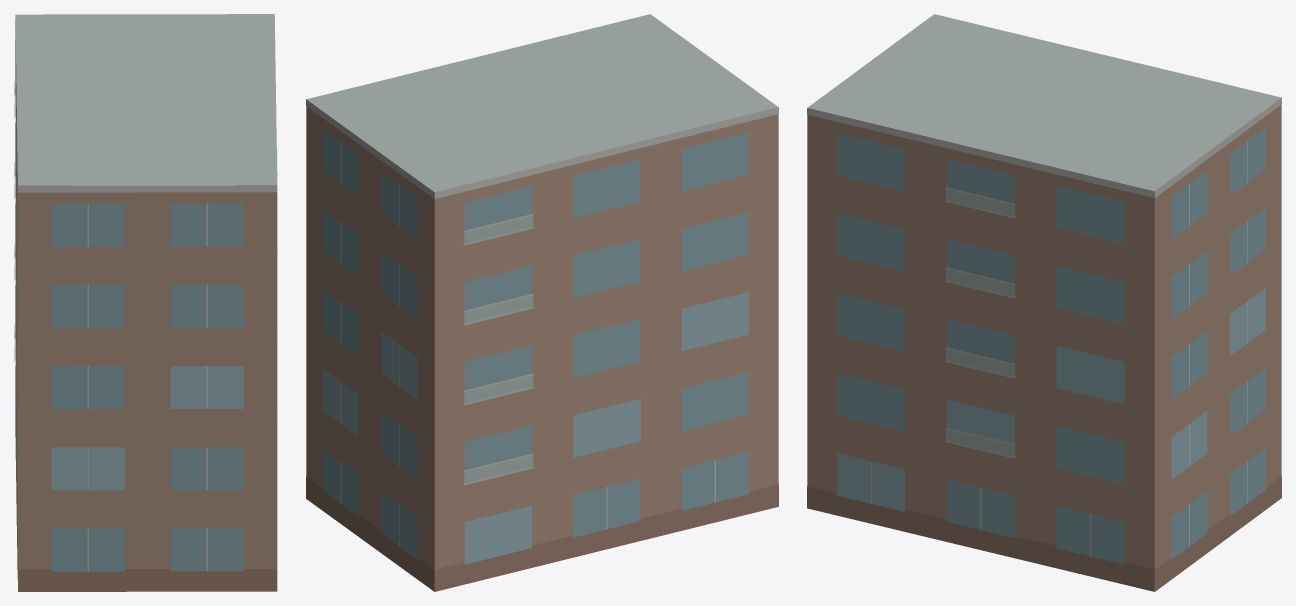
The model's file is survey-upis-32675606.glb.
The picture shows the model from 3 angles, left to right: view 1: azimuth 30°, elevation 25°; view 2: azimuth 150°, elevation 25°; view 3: azimuth 270°, elevation 25°; orthographic projection.
Parts seen in each view (by area): view 1: survey-upis-32675606.tmp; view 2: survey-upis-32675606.tmp; view 3: survey-upis-32675606.tmp.
Boxes of the visible parts, x1,y1,x2,y2 form: survey-upis-32675606.tmp: (14, 14, 277, 591); survey-upis-32675606.tmp: (306, 14, 778, 591); survey-upis-32675606.tmp: (807, 14, 1281, 591).
Size of the model in its own units: 13.69 by 14.4 by 15.47.
